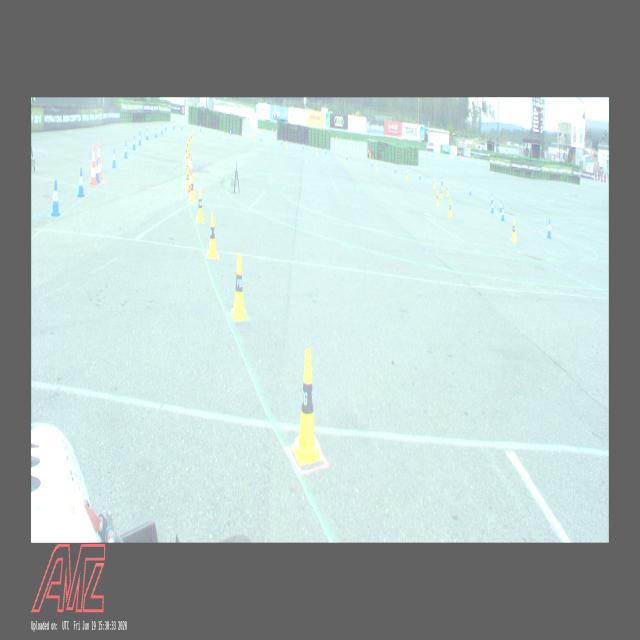blue_cone: (50, 179, 60, 218), (77, 168, 85, 198), (111, 147, 117, 169), (546, 219, 552, 240), (96, 158, 100, 184), (123, 141, 128, 160), (500, 204, 504, 222), (132, 135, 136, 151), (138, 132, 142, 146), (490, 200, 494, 214), (154, 126, 158, 138), (146, 128, 149, 141), (499, 200, 502, 212), (491, 193, 494, 205), (164, 122, 167, 132), (469, 186, 472, 196), (173, 121, 176, 130), (161, 124, 163, 136), (419, 170, 421, 180), (441, 176, 443, 186), (181, 121, 183, 130), (394, 165, 396, 173)
large_orange_cone: (89, 144, 97, 186), (187, 154, 194, 194), (185, 150, 191, 192), (97, 141, 103, 181)
yellow_cone: (292, 348, 322, 466), (230, 254, 248, 322), (206, 212, 218, 260), (196, 188, 204, 224), (189, 175, 195, 202), (511, 218, 517, 242), (185, 170, 189, 190), (448, 199, 452, 218), (435, 190, 439, 206), (445, 183, 449, 196), (440, 186, 442, 200), (433, 177, 435, 189), (193, 130, 195, 141), (190, 133, 192, 144), (406, 170, 408, 180), (201, 128, 203, 138)
